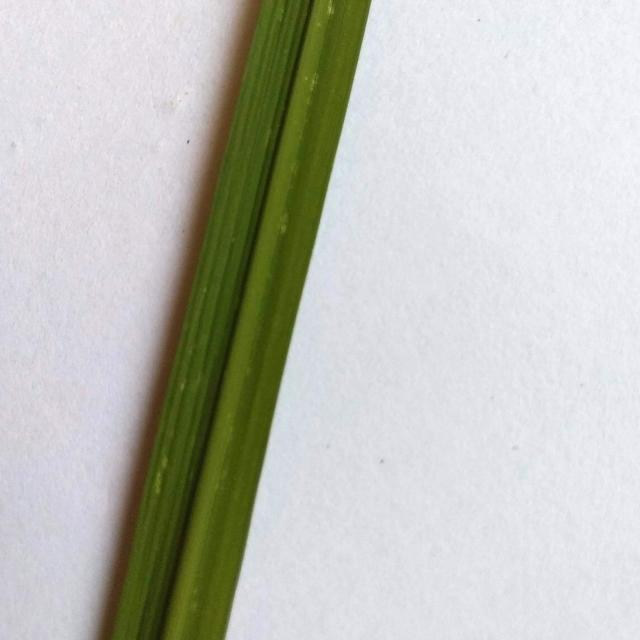healthy: (22, 0, 401, 640)
